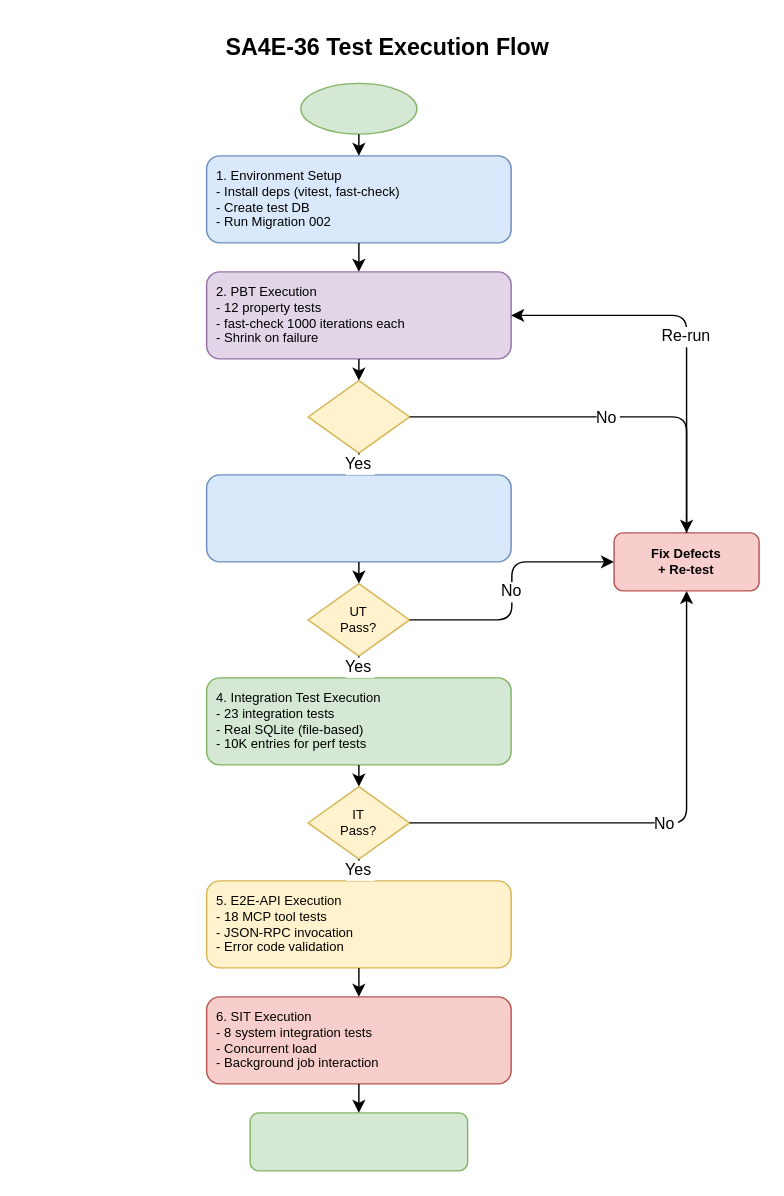
The diagram is 784 pixels wide and 1196 high, and some of its shapes have lost their labels. The centre of each missing label's shape, as x and y in pixels:
3. Unit Test Execution - 31 unit tests - Mocked dependencies - Coverage report: (x=358, y=517)
Generate TEST-REPORT.md: (x=358, y=1141)
PBT Pass?: (x=358, y=416)
Start: (x=358, y=108)
